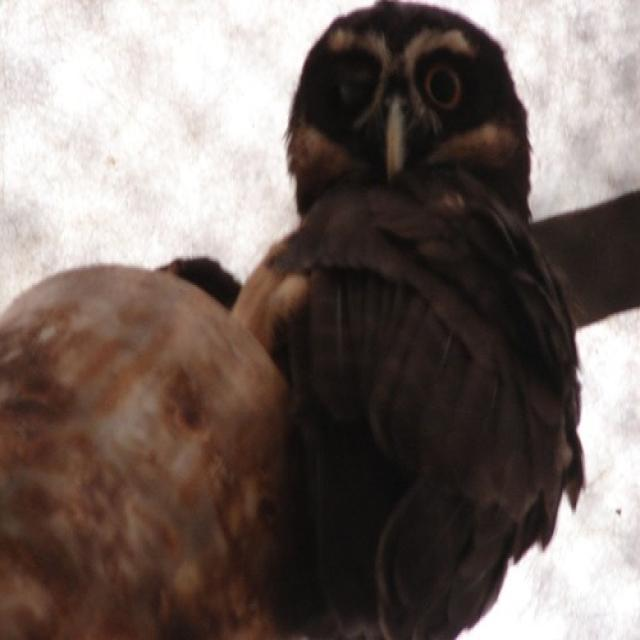bird: (260, 5, 587, 640)
